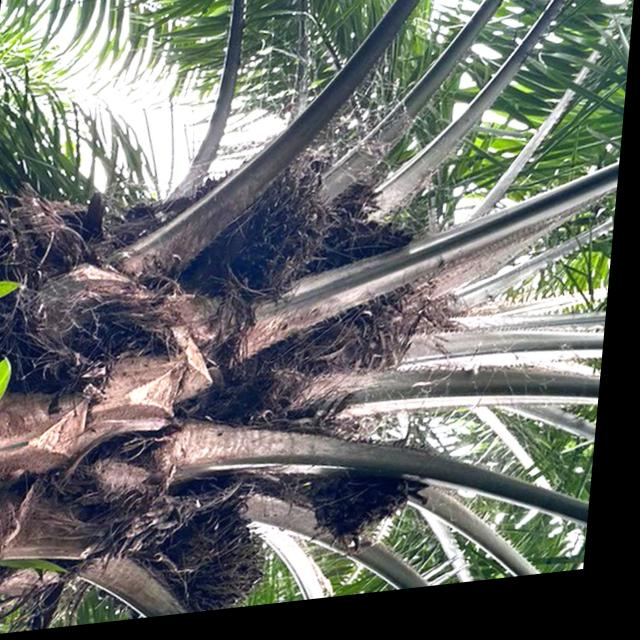unripe: (213, 163, 341, 324)
